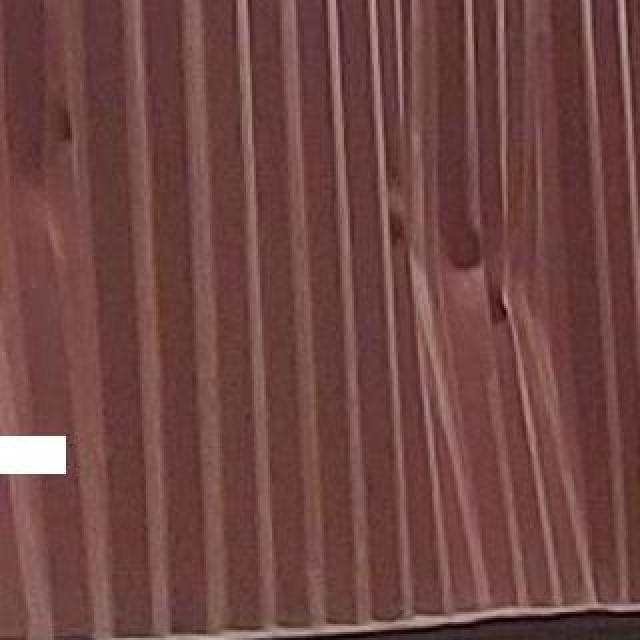dent: (391, 1, 617, 453)
